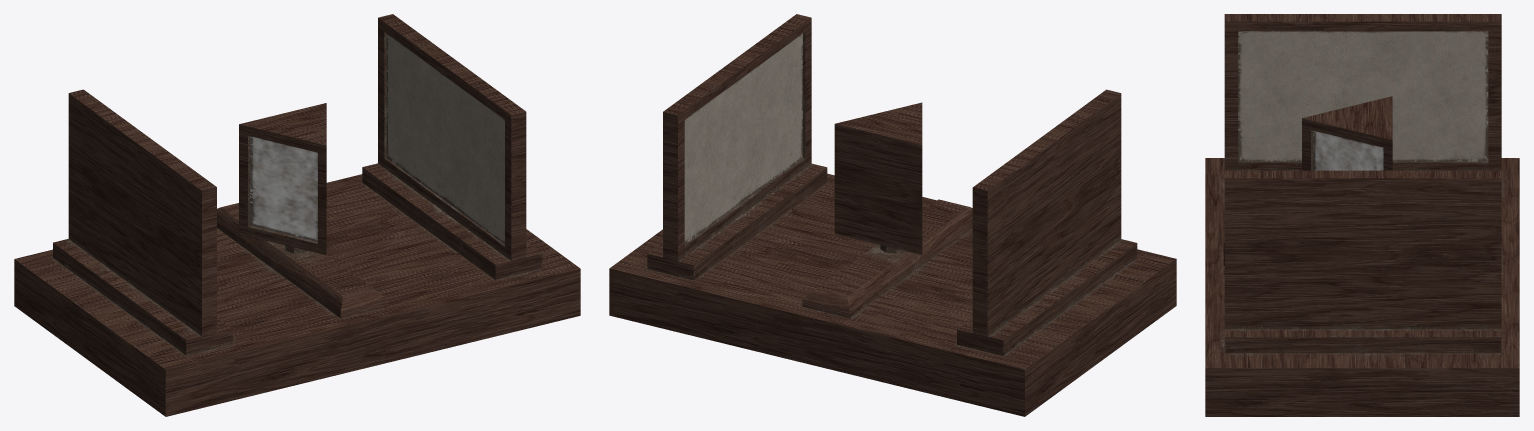
File: Stereopsis.gltf
The picture shows the model from 3 angles, left to right: view 1: azimuth 30°, elevation 25°; view 2: azimuth 150°, elevation 25°; view 3: azimuth 270°, elevation 25°; orthographic projection. The views are drawn at different scales.
Visible parts, largest first — view 1: Base, PartRight, PartLeft, PartMiddle; view 2: Base, PartLeft, PartRight, PartMiddle; view 3: PartRight, PartLeft, Base, PartMiddle.
Boxes of the visible parts, x1,y1,x2,y2 form: Base: (14, 174, 580, 416); PartRight: (362, 14, 542, 280); PartLeft: (53, 89, 232, 355); PartMiddle: (217, 103, 387, 318); Base: (609, 173, 1176, 416); PartLeft: (957, 89, 1137, 355); PartRight: (647, 14, 827, 280); PartMiddle: (802, 102, 972, 318); PartRight: (1224, 170, 1501, 353); PartLeft: (1224, 14, 1501, 170); Base: (1205, 158, 1519, 416); PartMiddle: (1223, 96, 1392, 274).
Bounding box in the file's own units: 2.29 × 1.1 × 1.45.
1 material, 1 textured.
